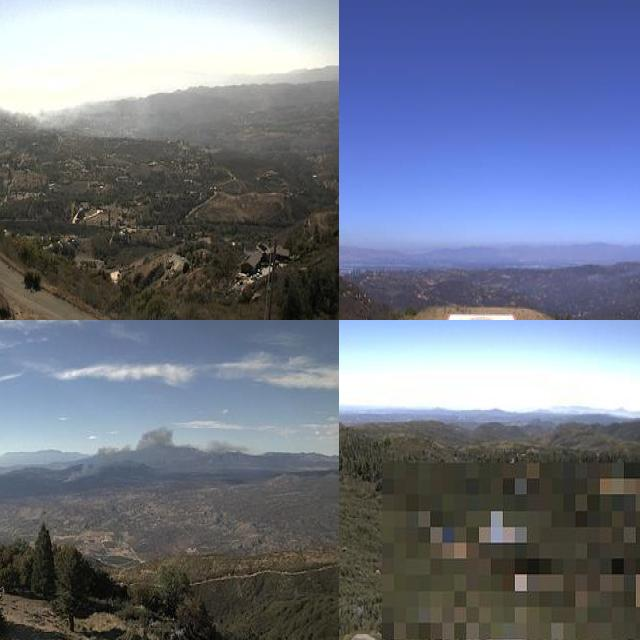smoke: (60, 422, 251, 486), (0, 91, 95, 130)
